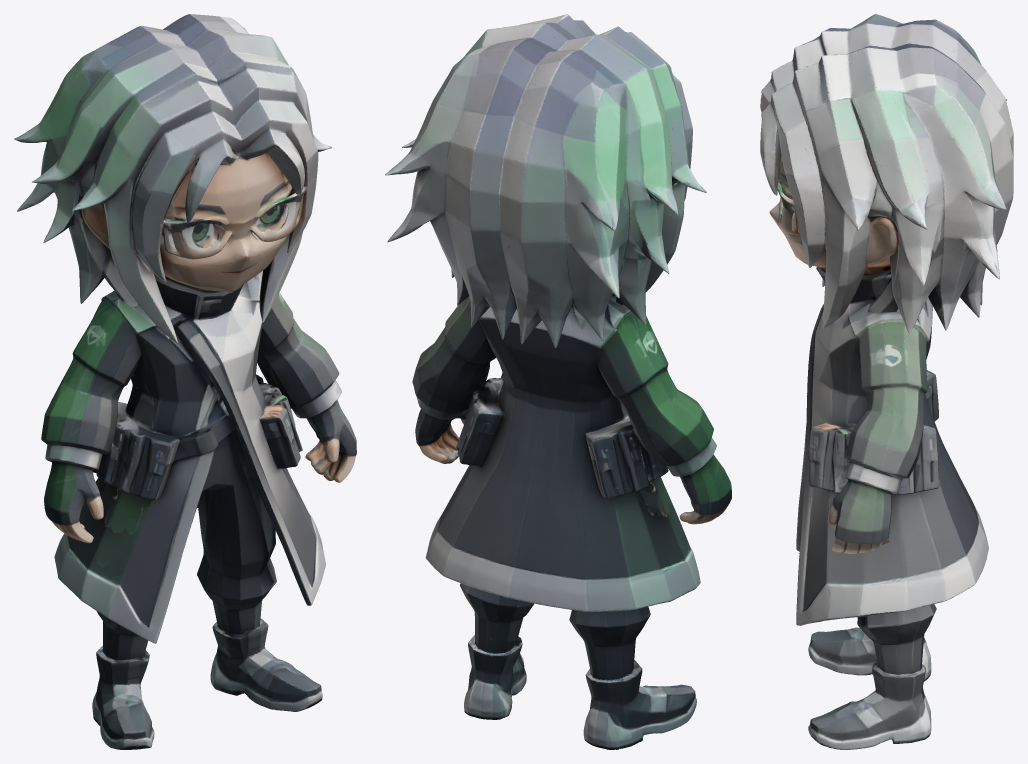
File: designer.glb
3 views of the same model, side by side, from view 1: azimuth 30°, elevation 25°; view 2: azimuth 150°, elevation 25°; view 3: azimuth 270°, elevation 25° (orthographic).
Visible parts, largest first — view 1: input; view 2: input; view 3: input.
Part boxes in pixels (bbox=[...]): input: bbox=[14, 14, 356, 749]; input: bbox=[385, 14, 731, 749]; input: bbox=[760, 14, 1013, 749].
Size of the model in its own units: 0.4667 by 0.9998 by 0.3436.
1 material, 1 textured.
